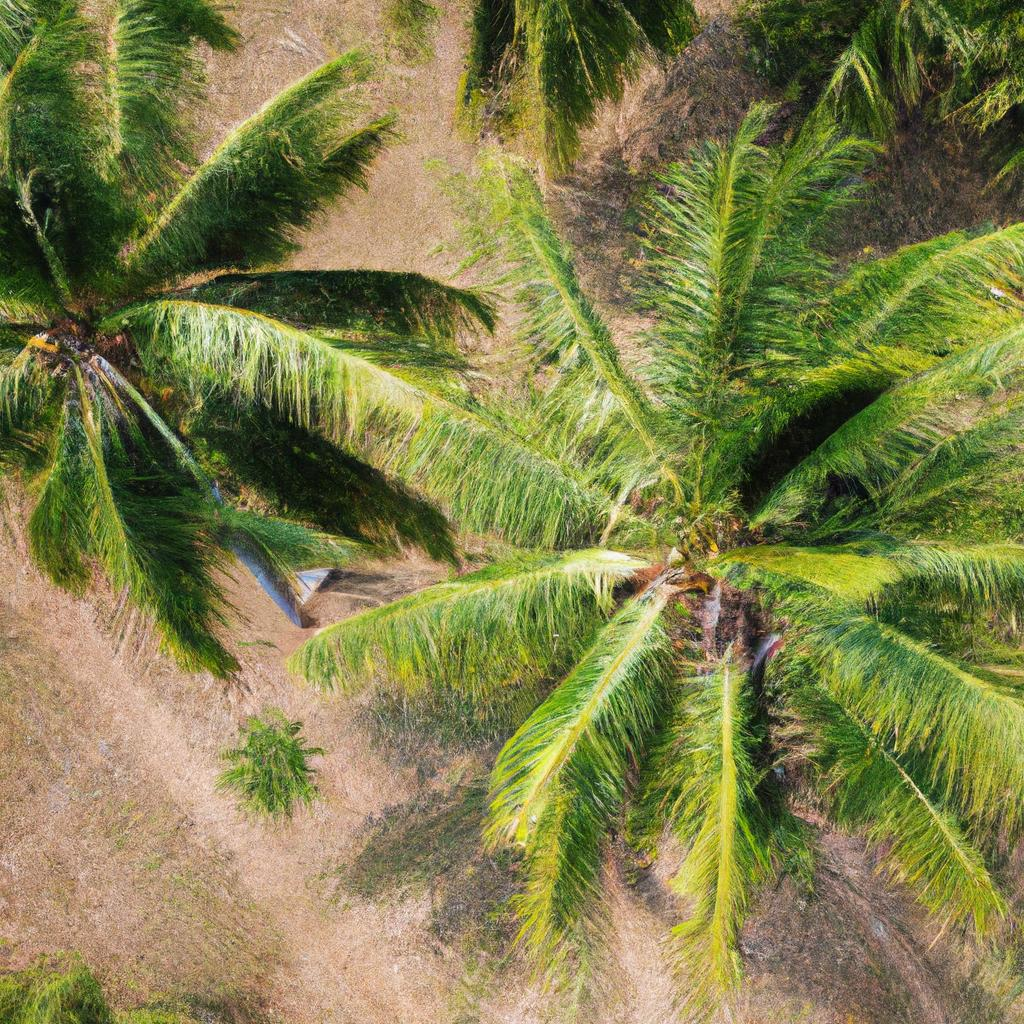coconut_tree: (292, 93, 1023, 993)
